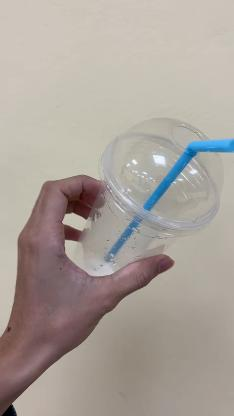Plastic Cup: (73, 115, 224, 279)
